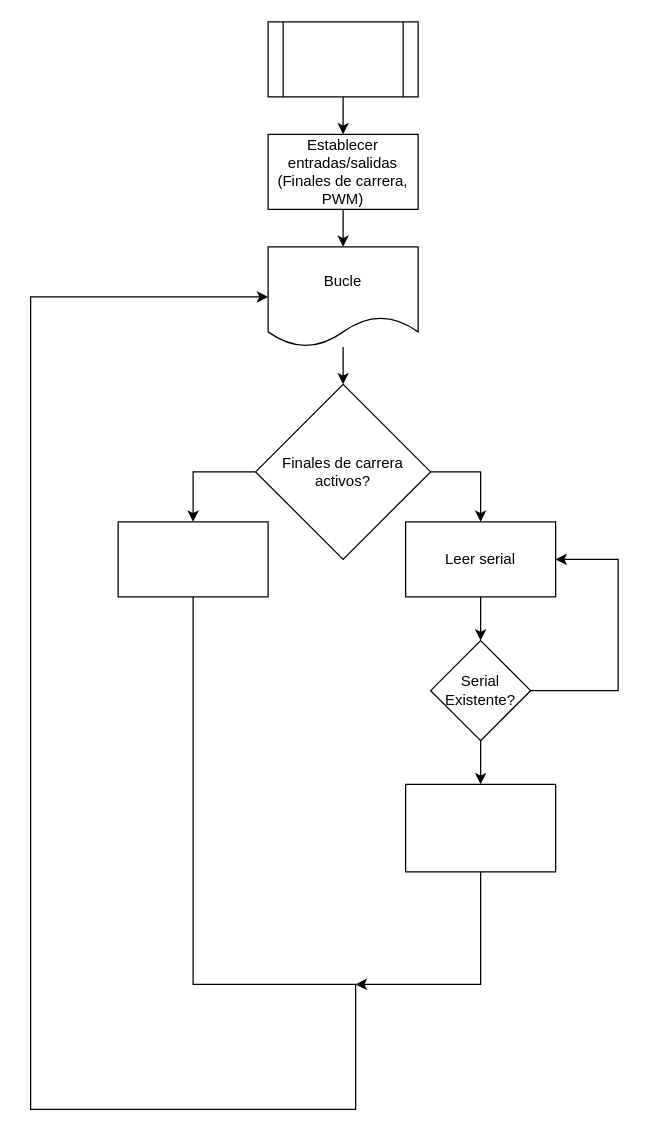
Some shapes in this 650 by 1141 pixel diagram are drawn without their labels. Here are the shapes that lost their labels. From the top down, the box of each, then its label:
(267, 21, 418, 97): Inicio
(117, 521, 268, 597): Detener motores
(404, 783, 556, 872): Escribir velocidad en Motor
